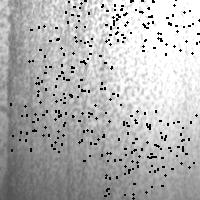pitted_surface: (8, 1, 200, 196), (123, 110, 182, 170), (60, 40, 117, 98), (104, 145, 164, 200), (78, 104, 136, 160), (28, 25, 87, 80), (141, 0, 200, 53), (10, 93, 63, 151), (34, 71, 88, 122), (64, 0, 123, 43), (102, 0, 160, 41), (157, 114, 200, 168)
